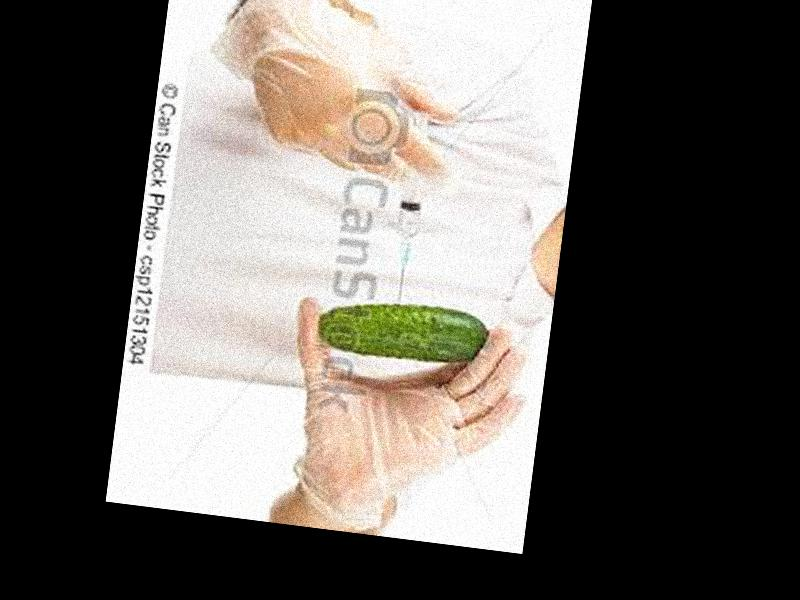Cucumber: (316, 295, 495, 372)
